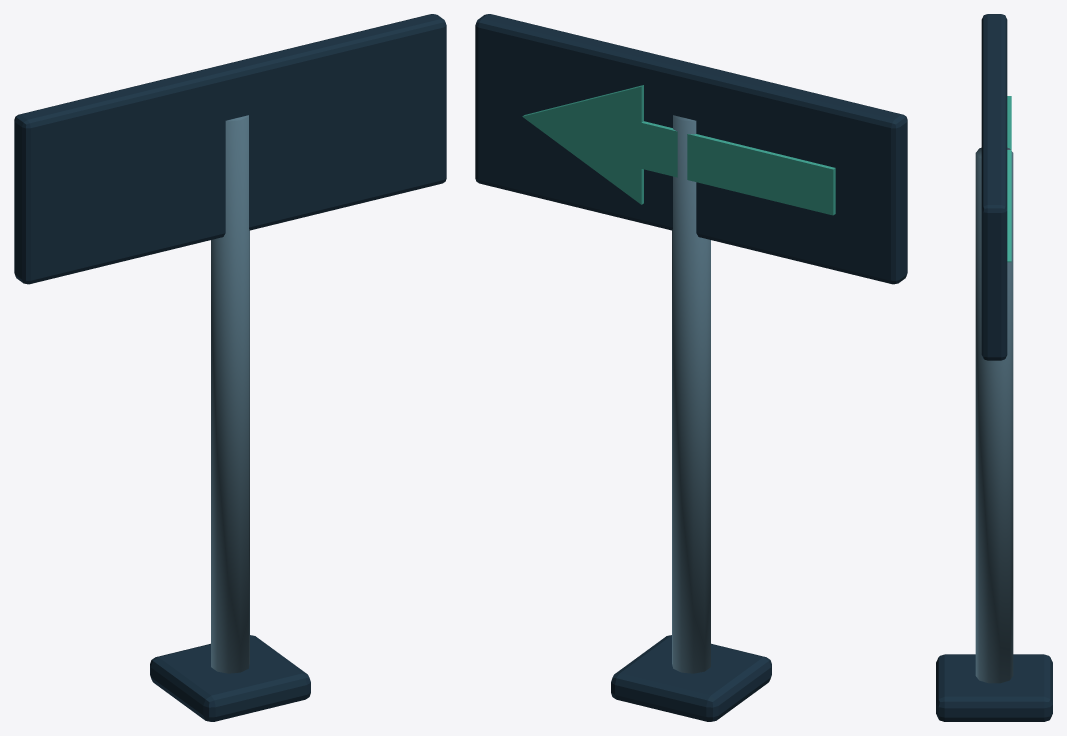
The model's file is direction-sign.glb.
The picture shows the model from 3 angles, left to right: view 1: azimuth 30°, elevation 25°; view 2: azimuth 150°, elevation 25°; view 3: azimuth 270°, elevation 25°; orthographic projection. The views are drawn at different scales.
Visible parts, largest first — view 1: direction_sign; view 2: direction_sign; view 3: direction_sign.
Boxes of the visible parts, x1,y1,x2,y2 form: direction_sign: [14, 14, 446, 721]; direction_sign: [475, 14, 907, 721]; direction_sign: [936, 14, 1052, 721].
Size of the model in its own units: 1.35 by 1.9 by 0.34.
